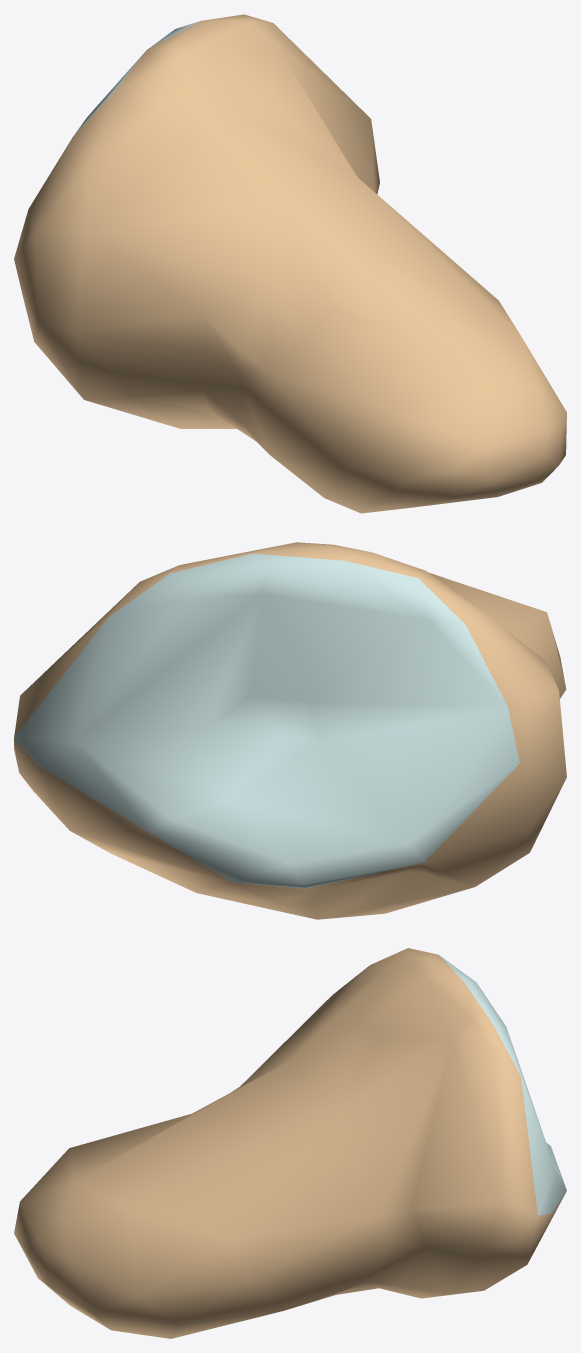
The model's file is Distal_phalanx_fourth_finger_foot_left.glb.
3 renders of one model, top to bottom at view 1: azimuth 30°, elevation 25°; view 2: azimuth 150°, elevation 25°; view 3: azimuth 270°, elevation 25°, orthographic. The views are drawn at different scales.
Visible parts, largest first — view 1: Distal_phalanx_of_4th_finger_of_foot.l_Generated_Mesh_From_X; view 2: Distal_phalanx_of_4th_finger_of_foot.l_Generated_Mesh_From_X; view 3: Distal_phalanx_of_4th_finger_of_foot.l_Generated_Mesh_From_X.
Part boxes in pixels (<box>): Distal_phalanx_of_4th_finger_of_foot.l_Generated_Mesh_From_X: <box>14,14,566,513</box>; Distal_phalanx_of_4th_finger_of_foot.l_Generated_Mesh_From_X: <box>14,542,566,919</box>; Distal_phalanx_of_4th_finger_of_foot.l_Generated_Mesh_From_X: <box>14,948,566,1338</box>.
Bounding box in the file's own units: 0.00879 × 0.00733 × 0.0117.
